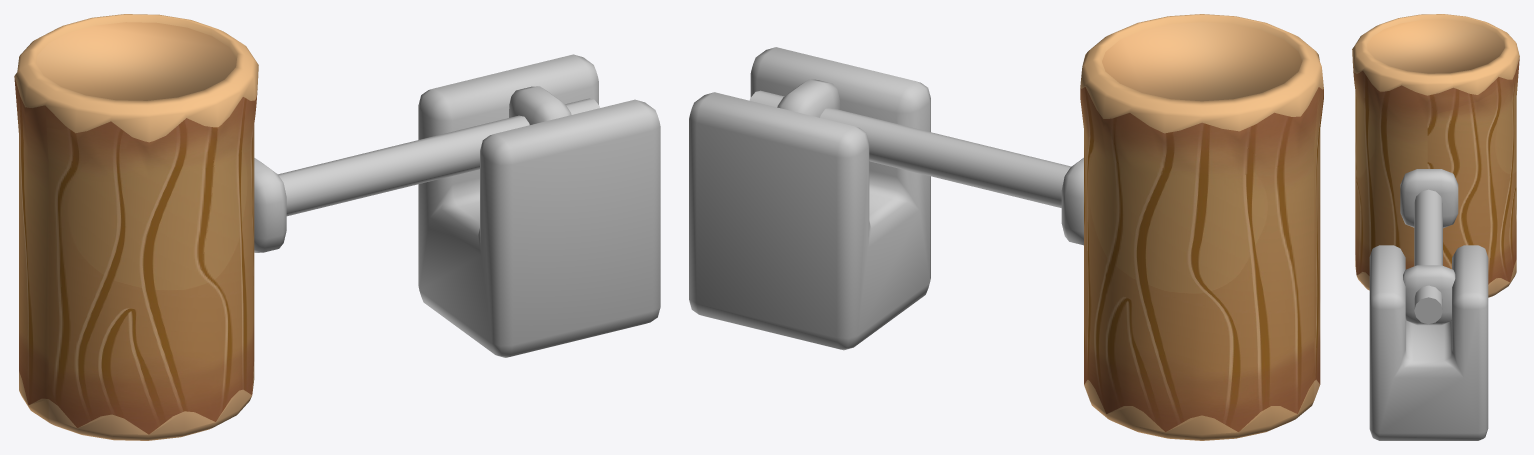
Rendered from Obstacle2.fbx.
3 views of the same model, side by side, from view 1: azimuth 30°, elevation 25°; view 2: azimuth 150°, elevation 25°; view 3: azimuth 270°, elevation 25° (orthographic). The views are drawn at different scales.
Parts seen in each view (by area): view 1: Spiral.005, Obstacle-13.000; view 2: Spiral.005, Obstacle-13.000; view 3: Spiral.005, Obstacle-13.000.
Boxes of the visible parts, box(x1,y1,x2,y2) form: Spiral.005: box(14, 14, 600, 440); Obstacle-13.000: box(418, 54, 660, 357); Spiral.005: box(749, 14, 1323, 440); Obstacle-13.000: box(689, 47, 930, 350); Spiral.005: box(1352, 14, 1519, 325); Obstacle-13.000: box(1369, 245, 1488, 440).
Size of the model in its own units: 188 by 107 by 67.92.
